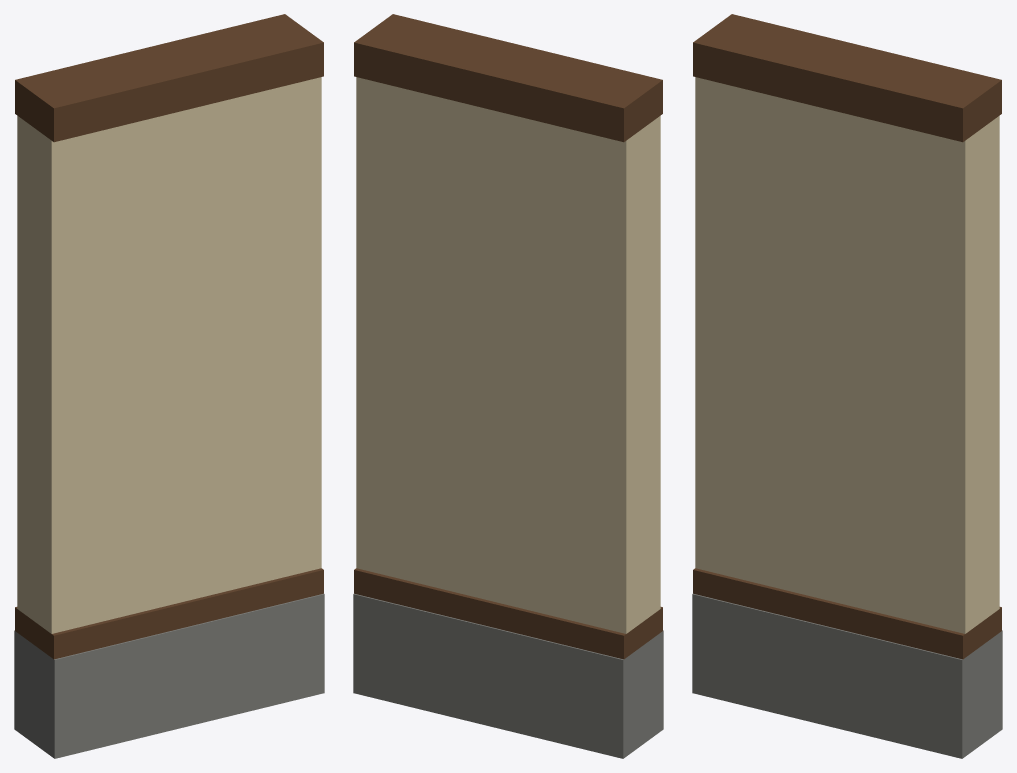
Rendered from Wall.fbx.
The picture shows the model from 3 angles, left to right: view 1: azimuth 30°, elevation 25°; view 2: azimuth 150°, elevation 25°; view 3: azimuth 330°, elevation 25°; orthographic projection.
Visible parts, largest first — view 1: Kit_Wall; view 2: Kit_Wall; view 3: Kit_Wall.
Part boxes in pixels (left/top/right/bottom): Kit_Wall: left=14, top=14, right=324, bottom=758; Kit_Wall: left=353, top=14, right=663, bottom=758; Kit_Wall: left=692, top=14, right=1002, bottom=758.
Size of the model in its own units: 1 by 2.3 by 0.26.
